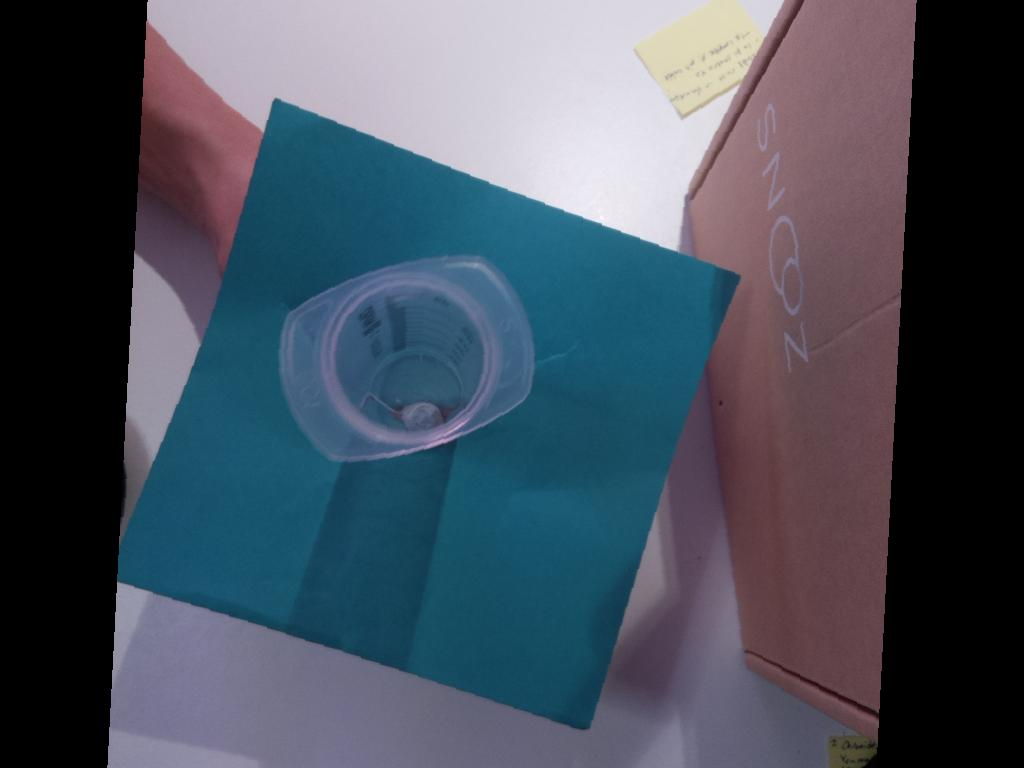clean: (277, 253, 534, 463)
